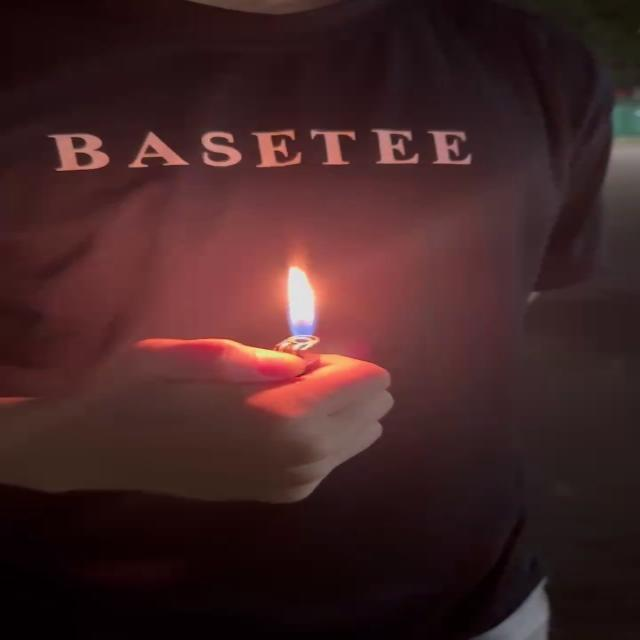Fire: (281, 263, 323, 346)
